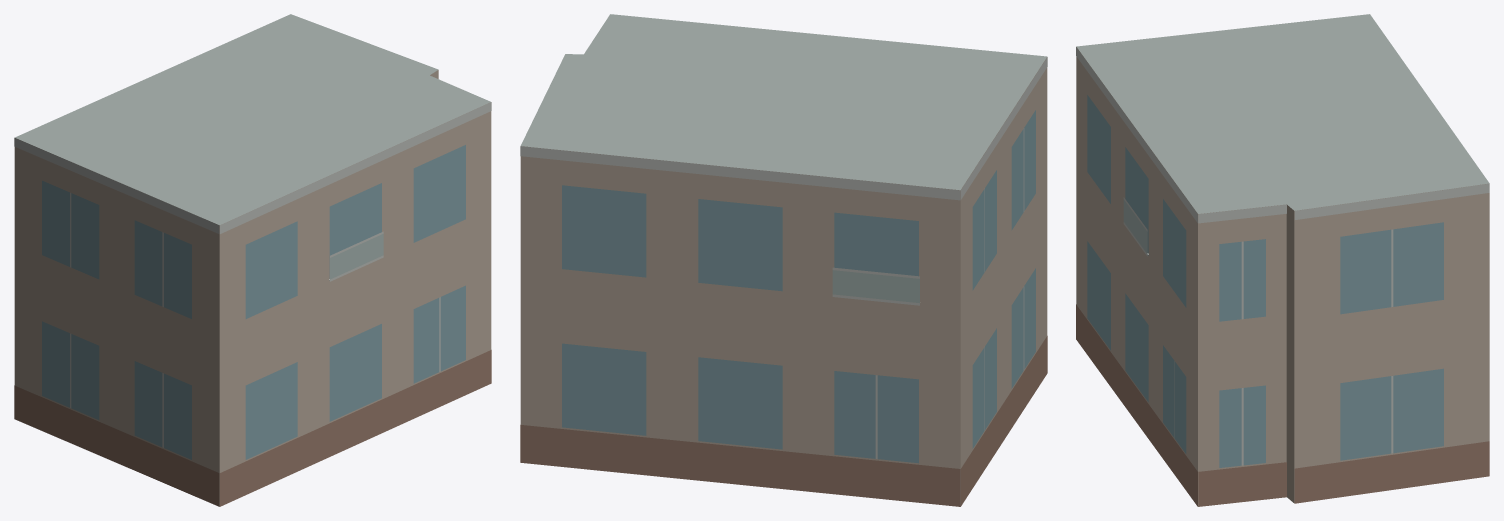
Rendered from survey-upis-32612558.glb.
3 views of the same model, side by side, from view 1: azimuth 30°, elevation 25°; view 2: azimuth 150°, elevation 25°; view 3: azimuth 270°, elevation 25° (orthographic). The views are drawn at different scales.
Visible parts, largest first — view 1: survey-upis-32612558.tmp; view 2: survey-upis-32612558.tmp; view 3: survey-upis-32612558.tmp.
Part boxes in pixels (left/top/right/bottom): survey-upis-32612558.tmp: left=14, top=14, right=491, bottom=506; survey-upis-32612558.tmp: left=520, top=14, right=1047, bottom=506; survey-upis-32612558.tmp: left=1076, top=14, right=1489, bottom=506.
Size of the model in its own units: 11.15 by 7.6 by 9.74.
